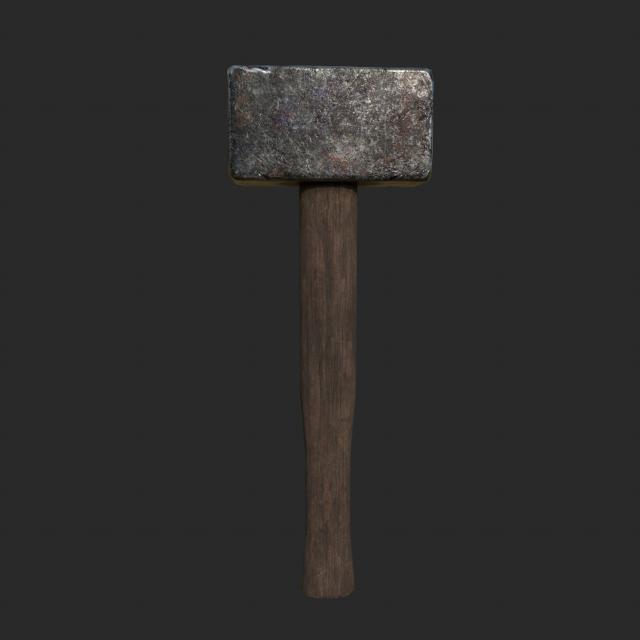hammer: (220, 54, 442, 606)
